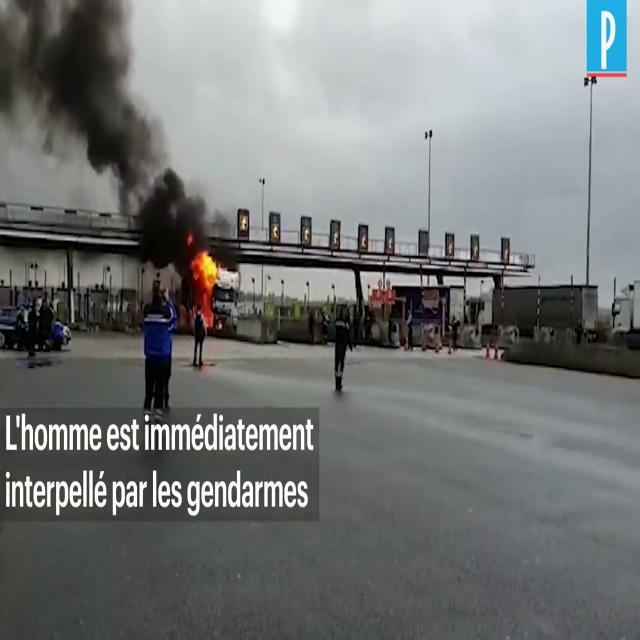Fire: (191, 244, 223, 325)
Smoke: (0, 1, 210, 250)
